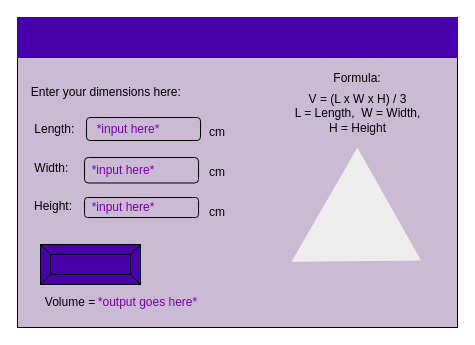
Some shapes in this 475 by 345 pixel diagram are drawn without their labels. The shapes that lost their labels are listed below. From the top down, each one's box as (x1, y1, x2, y2) in pixels, then its label:
(16, 16, 458, 58): Volume of a Pyramid Calculator
(40, 244, 140, 284): Calculate
